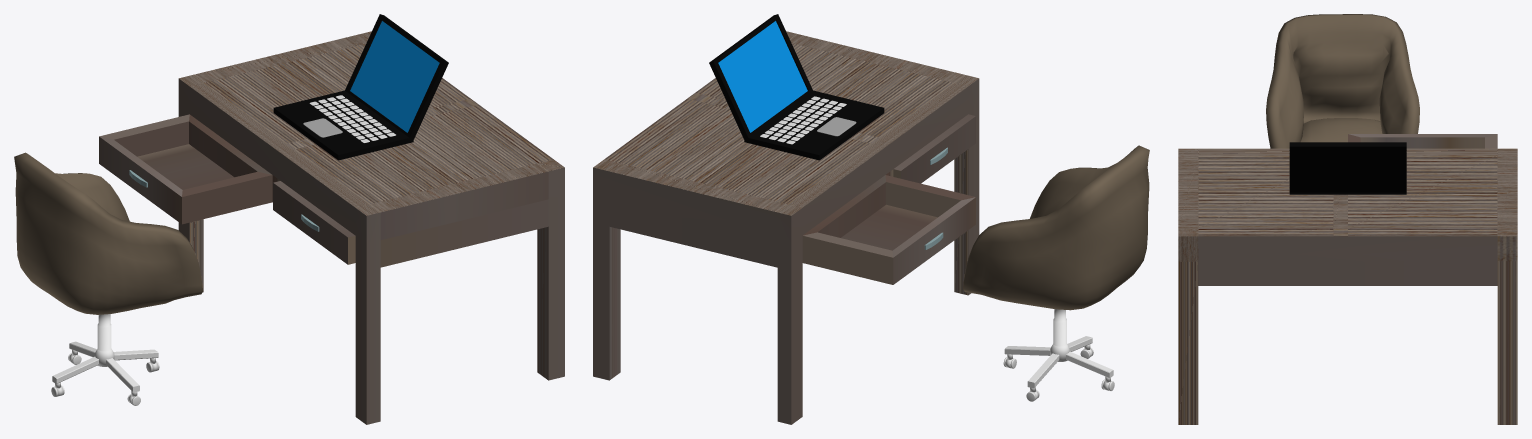
The model's file is setpc.fbx.
The picture shows the model from 3 angles, left to right: view 1: azimuth 30°, elevation 25°; view 2: azimuth 150°, elevation 25°; view 3: azimuth 270°, elevation 25°; orthographic projection. The views are drawn at different scales.
Parts seen in each view (by area): view 1: Cube.082, Cube.083, Cube.080; view 2: Cube.082, Cube.083, Cube.080; view 3: Cube.082, Cube.083, Cube.080.
Part boxes in pixels (box(x1,y1,x2,y2)): Cube.082: box(99, 31, 564, 424); Cube.083: box(14, 152, 202, 405); Cube.080: box(273, 14, 448, 160); Cube.082: box(593, 31, 979, 424); Cube.083: box(963, 145, 1149, 401); Cube.080: box(709, 14, 884, 160); Cube.082: box(1178, 134, 1517, 424); Cube.083: box(1266, 14, 1419, 148); Cube.080: box(1289, 142, 1406, 194).
Bounding box in the file's own units: 263 × 161 × 193.
Materials: 8 (1 with a texture image).
